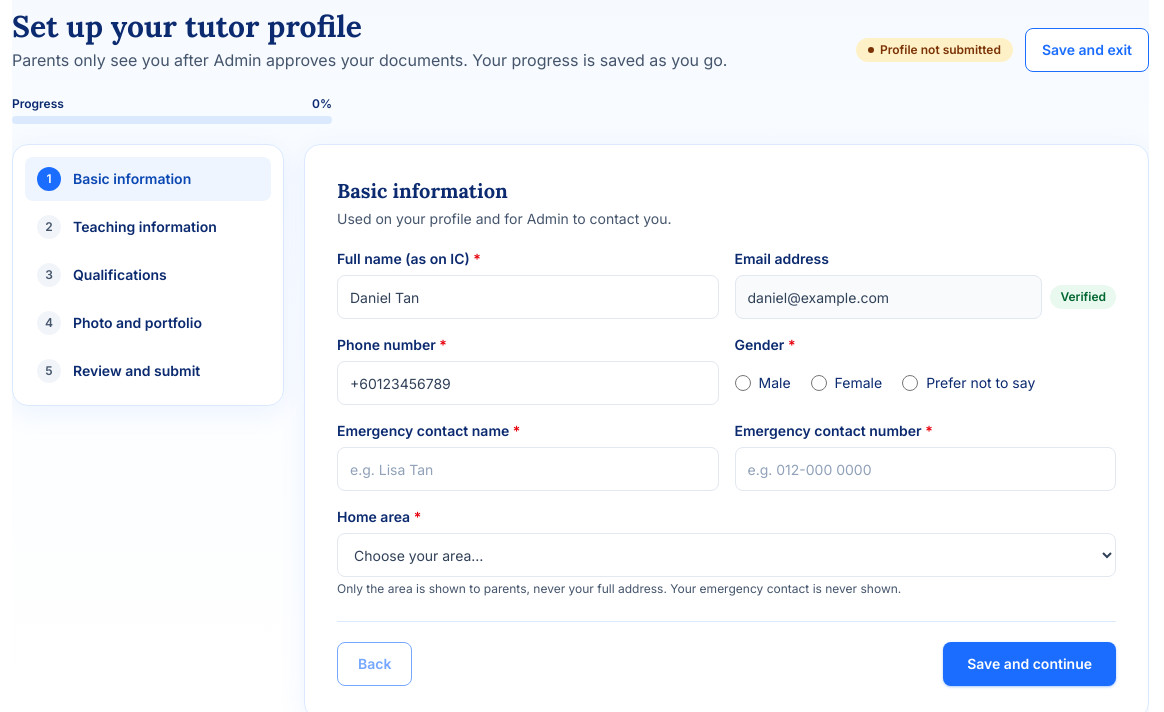
tutor profile setup › a complete basic step is saved on its own and the wizard moves on
This screenshot has width=1164, height=712.
Click the radio button labelled "Male".
click(742, 383)  # box [734,375,750,391]
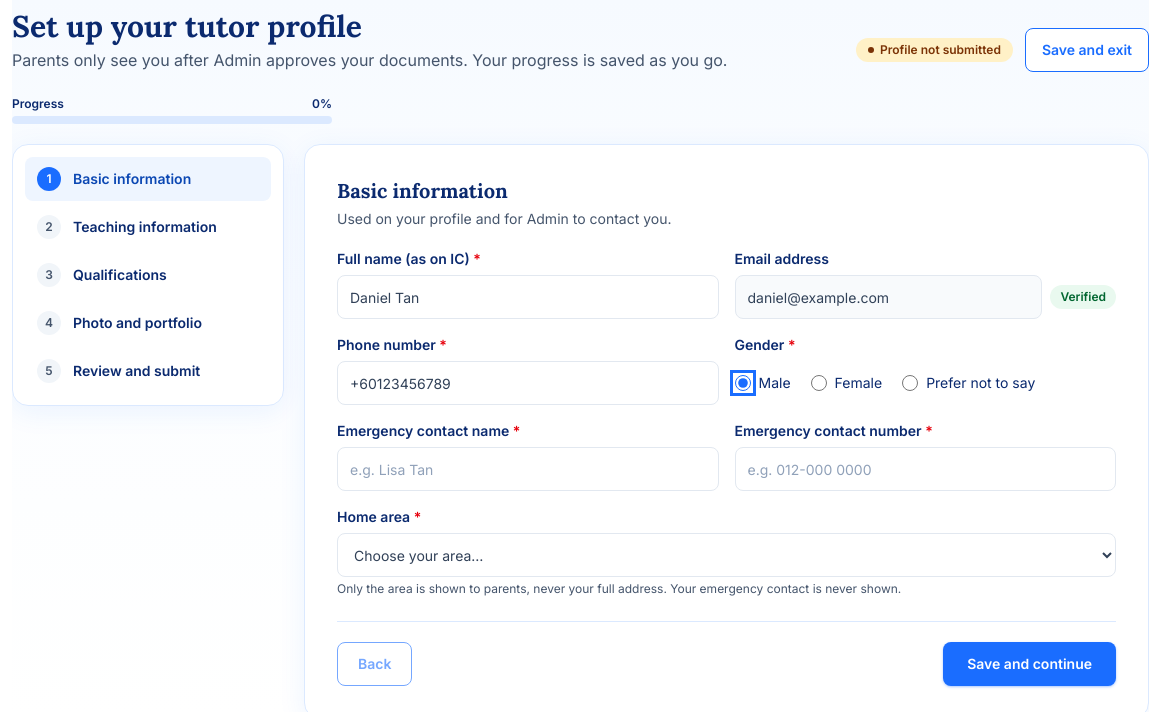
Type "Lisa Tan" into the field labelled "Emergency contact name *".
click(528, 469); type("Lisa Tan")  # box [337,447,718,491]
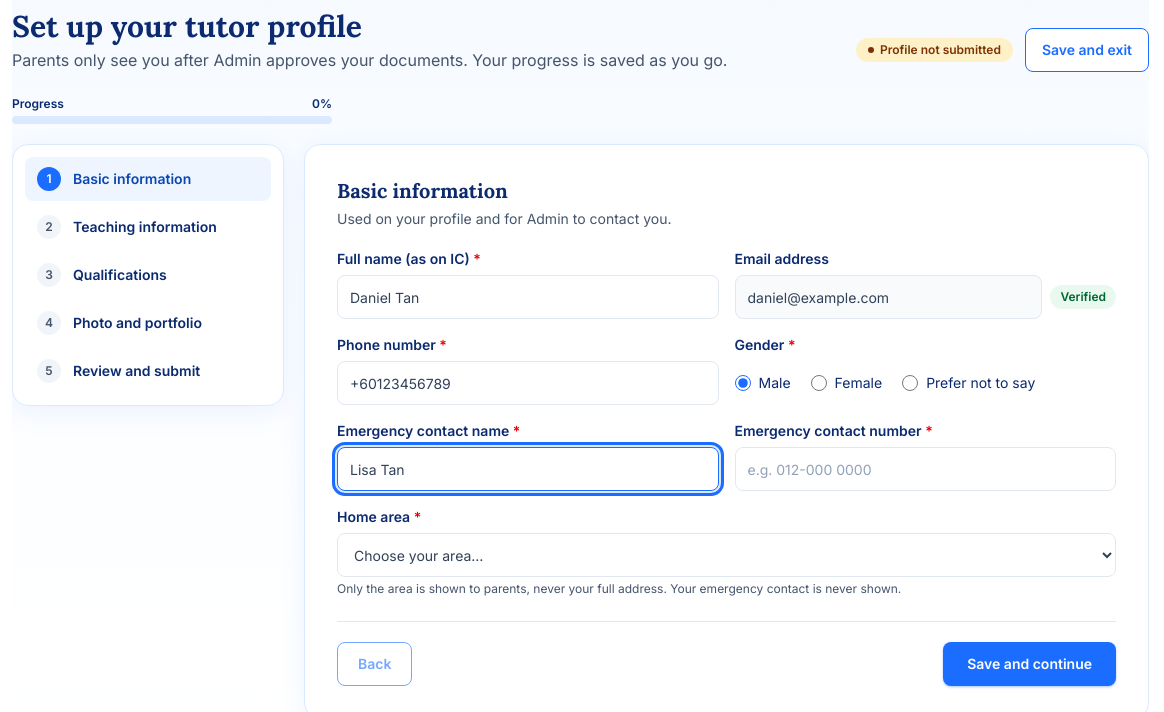
Type "012-000 0000" into the field labelled "Emergency contact number *".
click(925, 469); type("012-000 0000")  # box [734,447,1116,491]
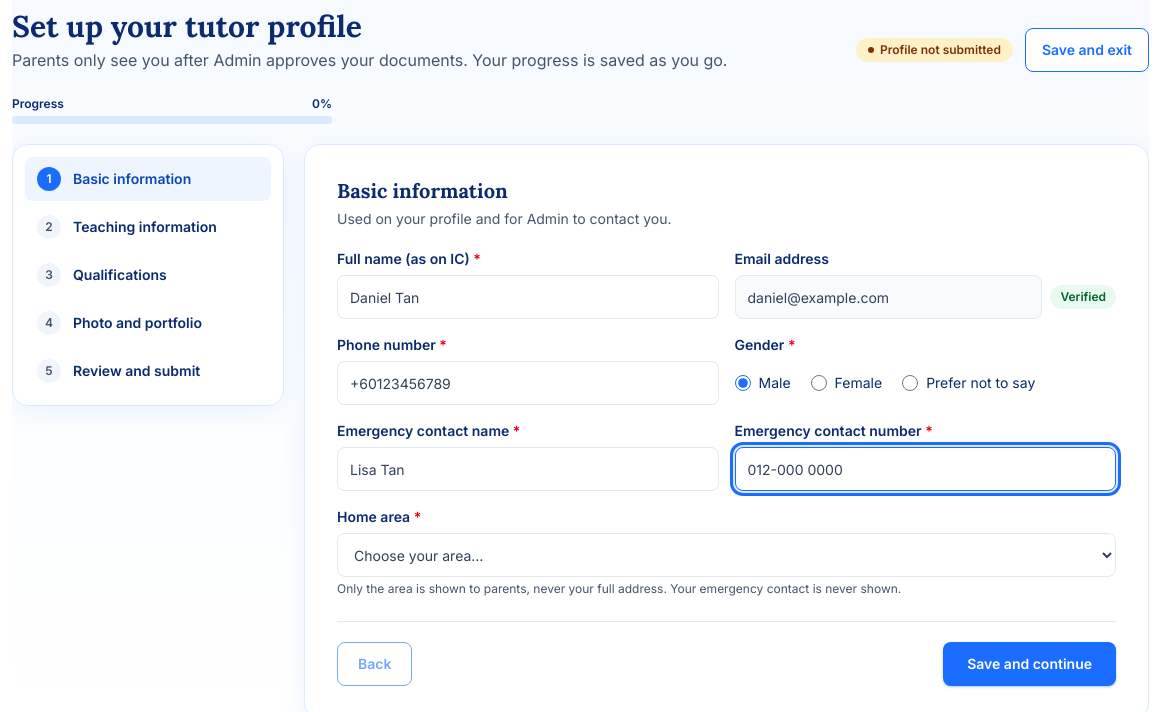
Select "Petaling Jaya, Selangor" in the dropdown labelled "Home area" at (726, 555), box [337,533,1116,577]
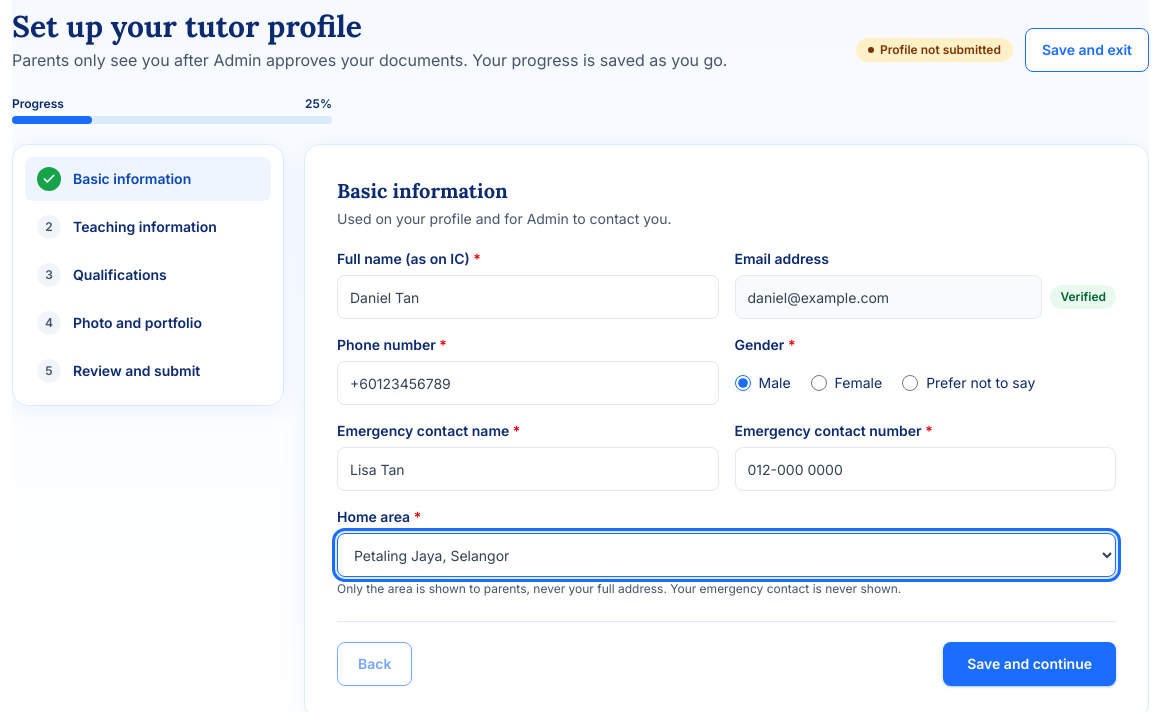
Click the button "Save and continue".
click(1030, 664)  # box [943,642,1116,686]
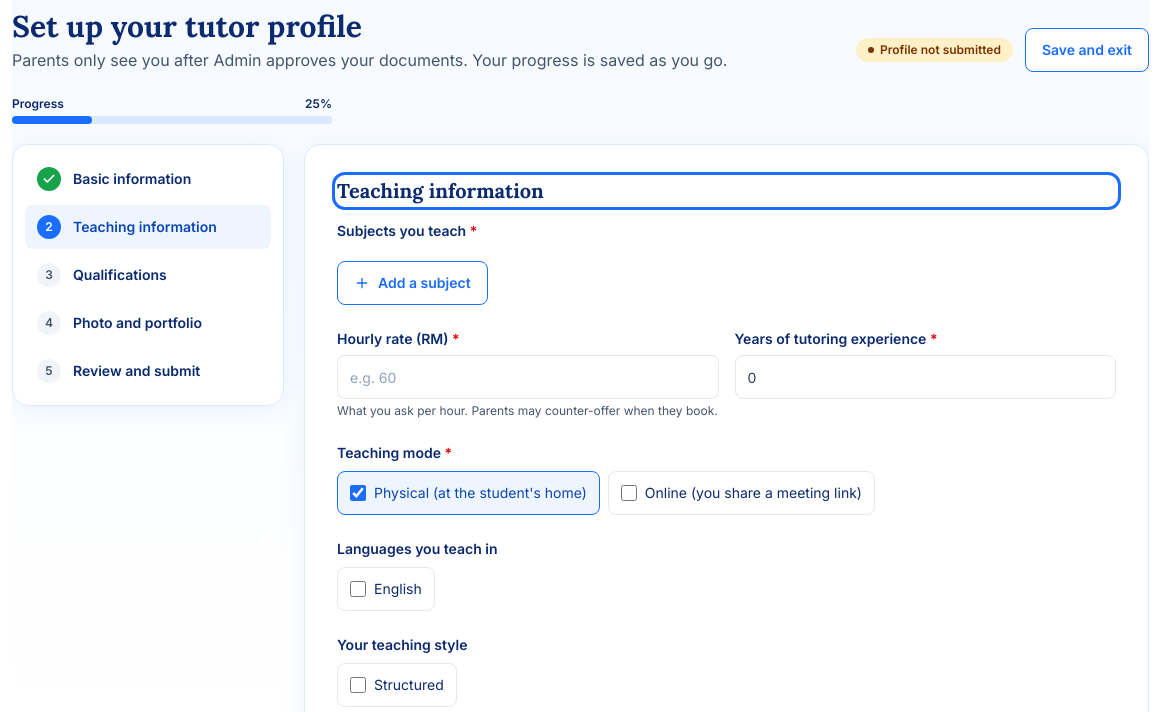
Check: the heading "Teaching information" is shown, box [337,178,544,203]
